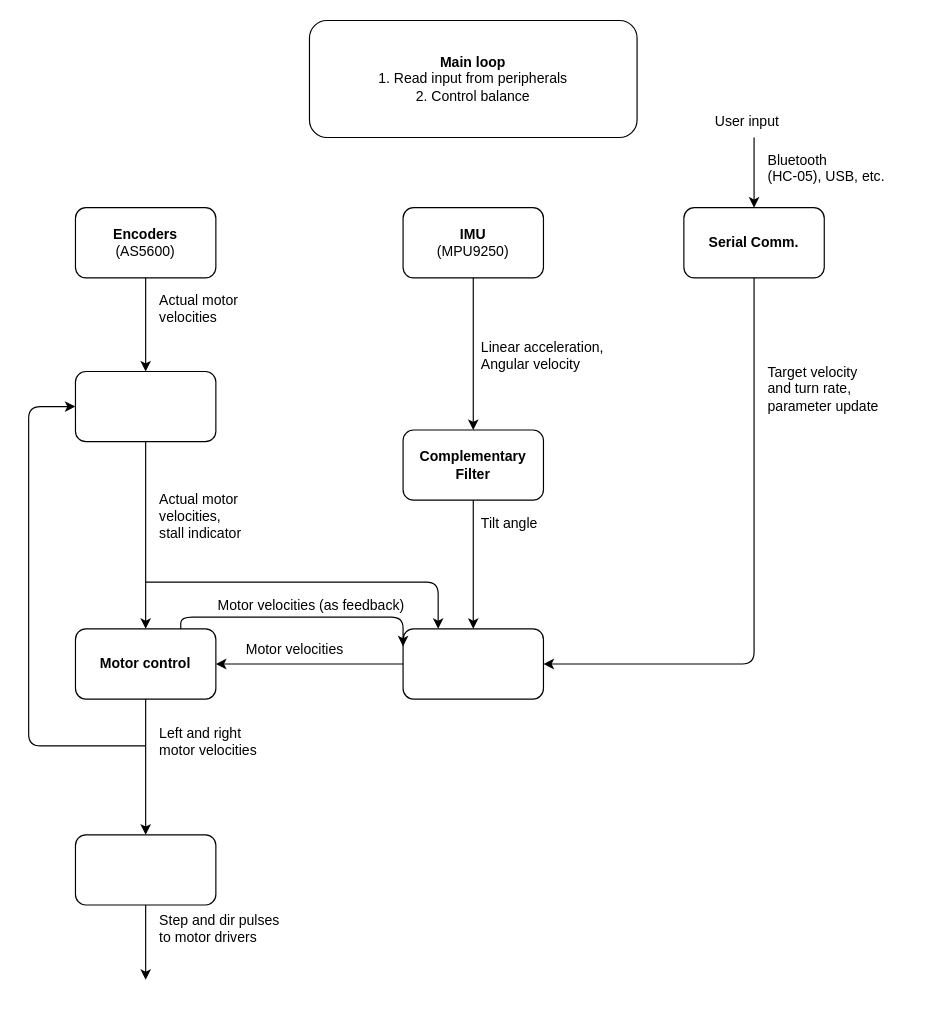
This 927x1010 diagram has some shape labels left out. The centre of each missing label's shape, as x and y in pixels:
Balance control: the point at 472,663
Motor timers (timer 0, timer 2): the point at 145,869
Stall detection: the point at 145,406
